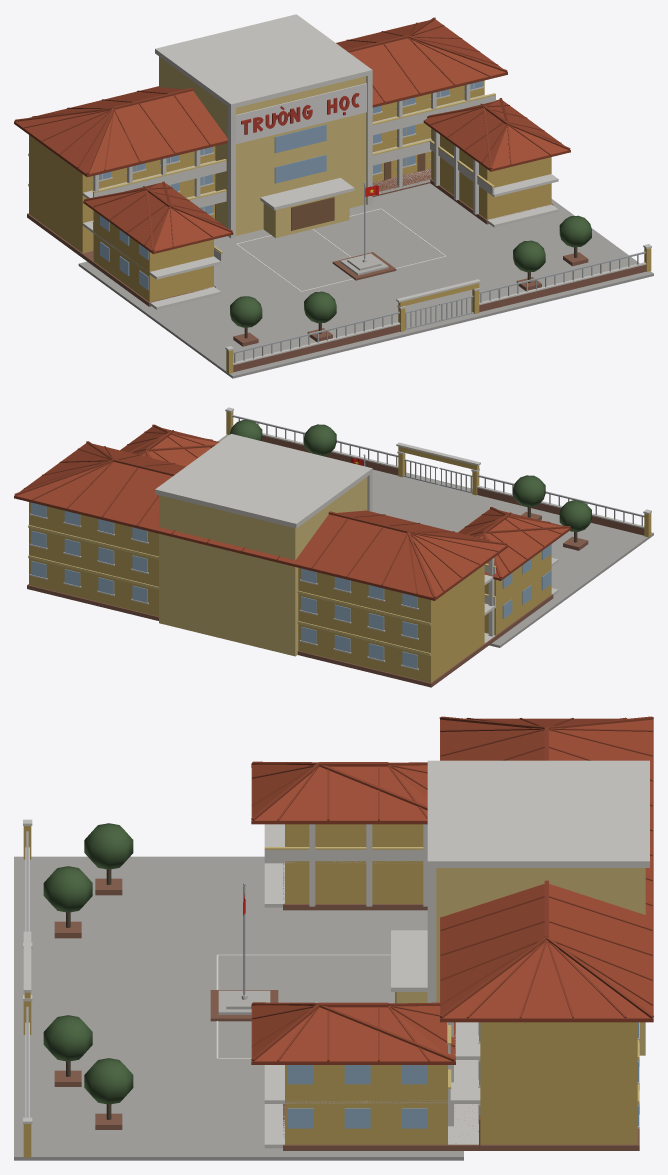
File: truong-hoc.glb
3 views of the same model, one above another, from view 1: azimuth 30°, elevation 25°; view 2: azimuth 150°, elevation 25°; view 3: azimuth 270°, elevation 25° (orthographic). The views are drawn at different scales.
Parts seen in each view (by area): view 1: truong_hoc; view 2: truong_hoc; view 3: truong_hoc.
Part boxes in pixels (x1,y1,x2,y2): truong_hoc: (14,14,653,378); truong_hoc: (14,407,653,687); truong_hoc: (14,716,653,1160).
Size of the model in its own units: 52.68 by 16.23 by 47.21.
